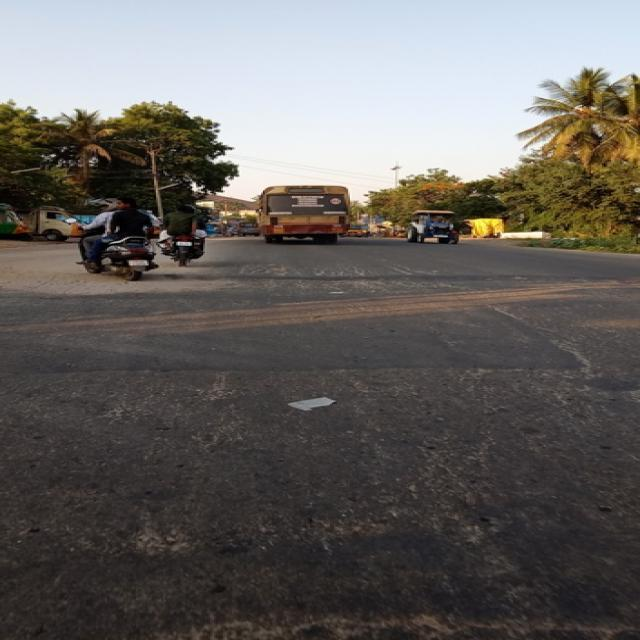speedbreaker: (145, 268, 640, 286)
